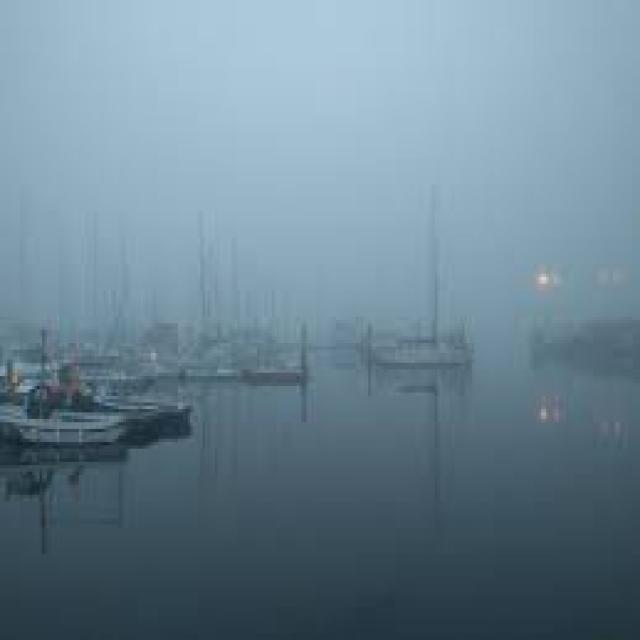fishing boat: (368, 199, 471, 381), (1, 369, 144, 459)
